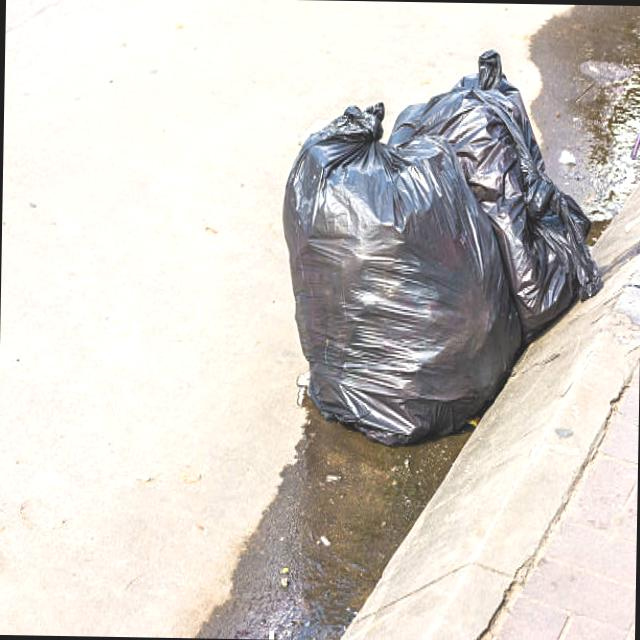garbage: (272, 46, 620, 469)
